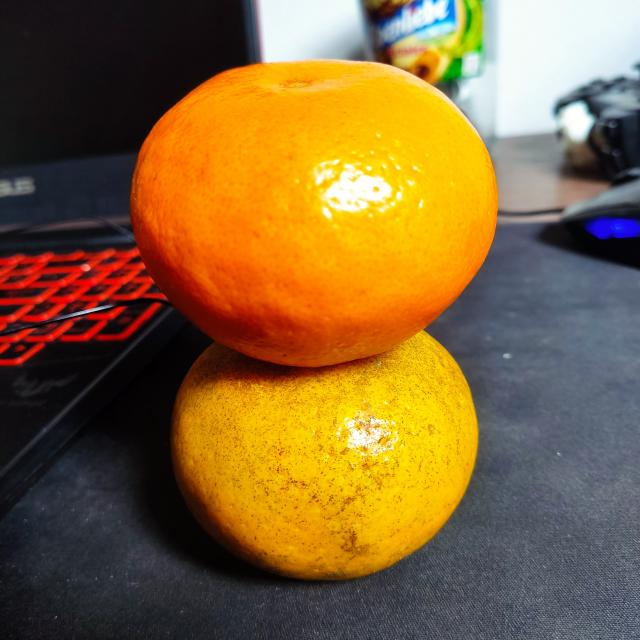orange: (169, 330, 480, 580)
